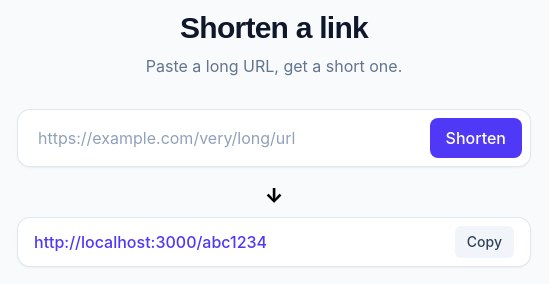
Test: app › shows an error on failure
Type "bad" into the field with test id "url-input".
click(224, 138); type("bad")  # box [26,118,422,158]
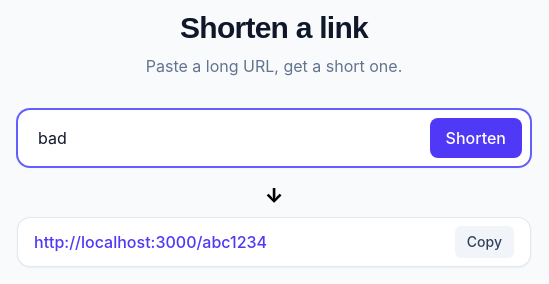
Click the button with test id "submit-button".
click(476, 138)  # box [430,118,522,158]
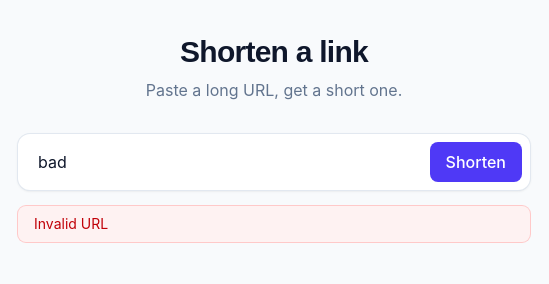
Now the text "Invalid URL" is shown, box [18,206,530,242]
